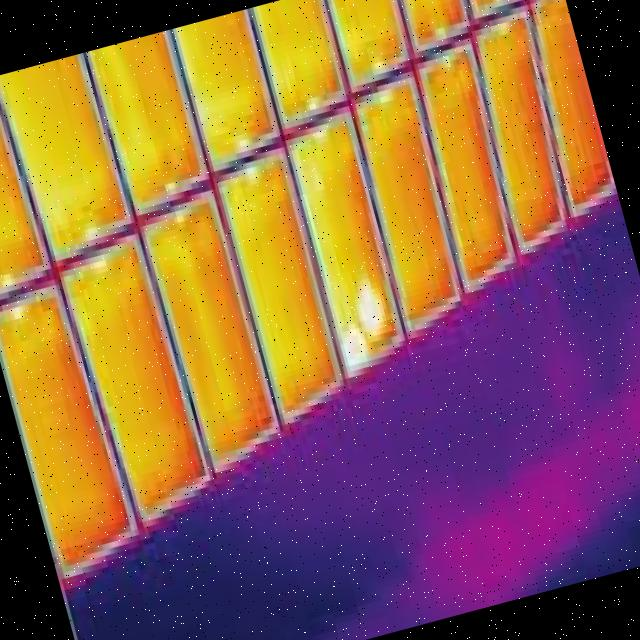Hotspot: (350, 275, 392, 338), (336, 321, 372, 372)
